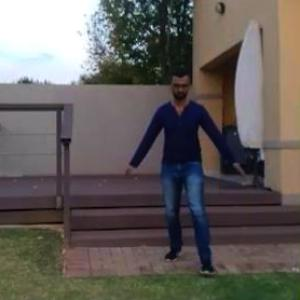land: (124, 54, 257, 284)
